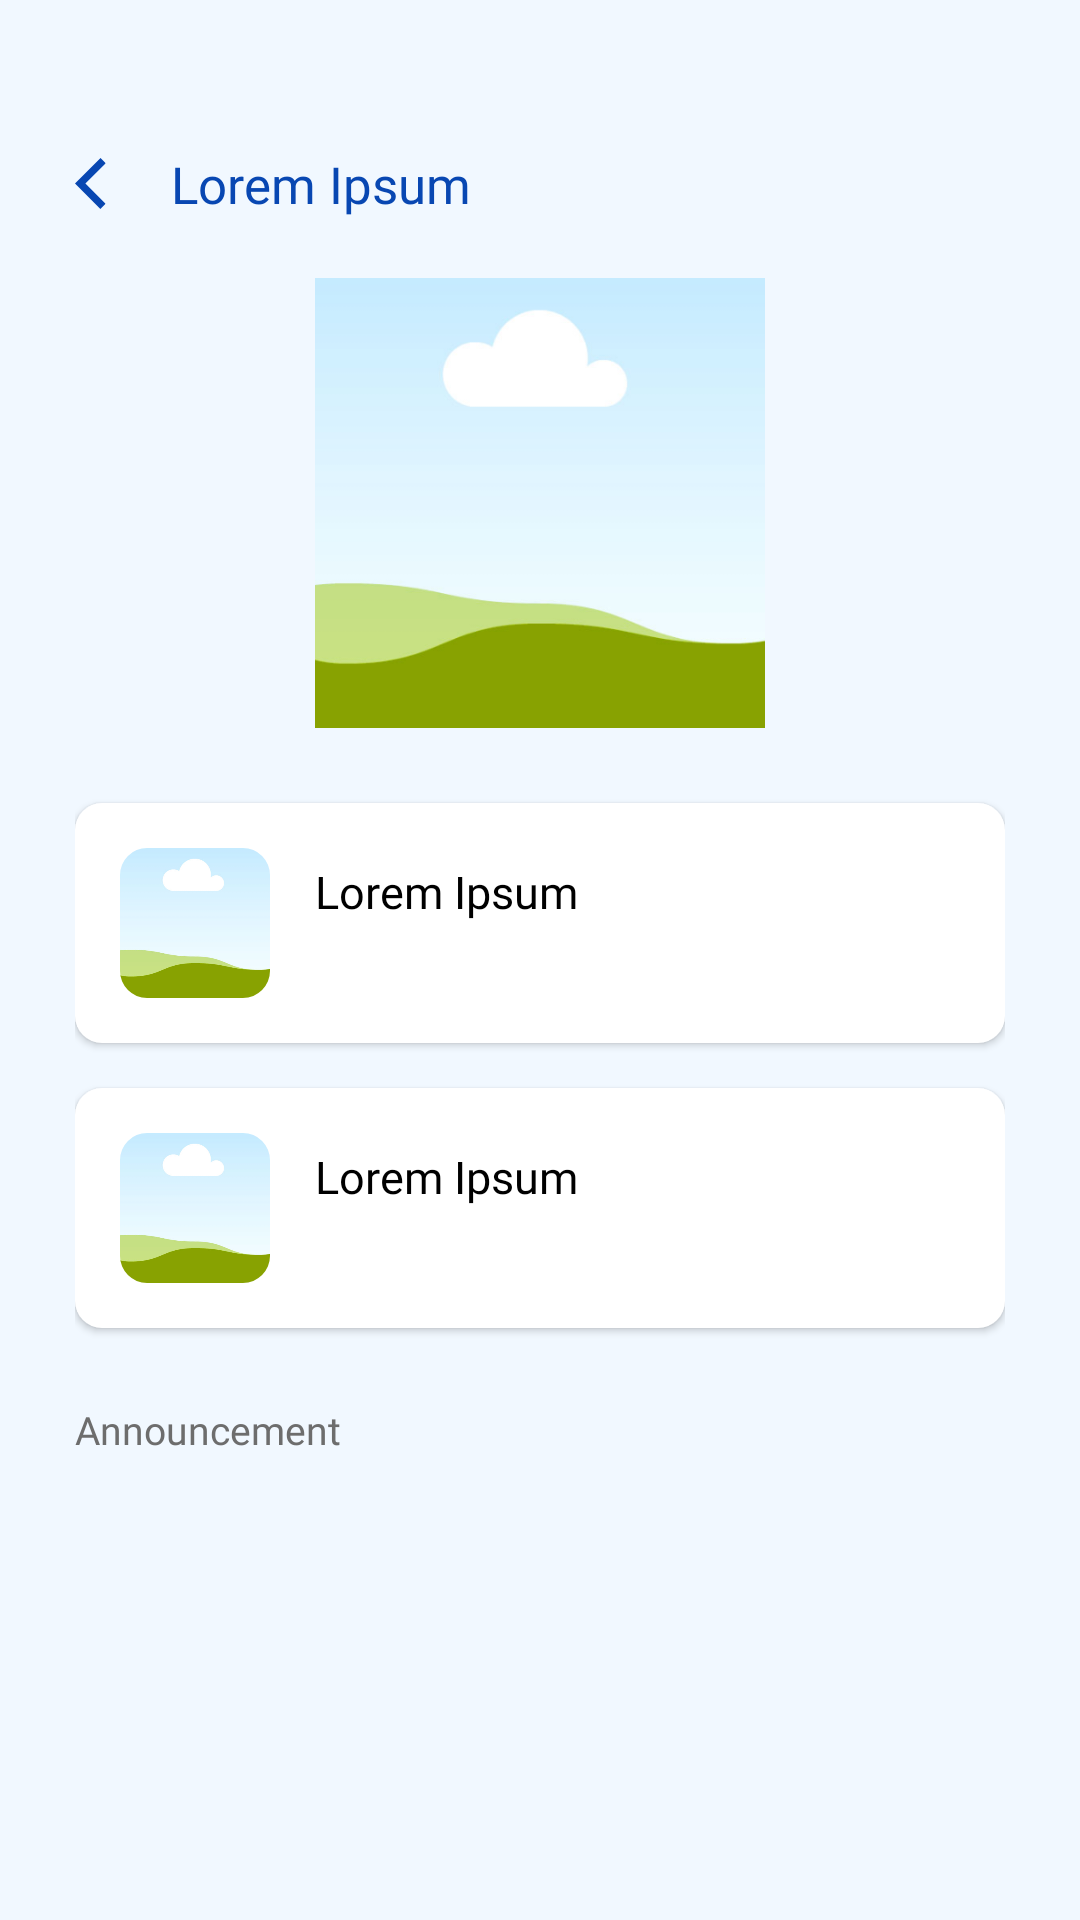

Screen size 1080 x 1920. Icon name, then its center in pixels as (x,y):
return: (90,183)
